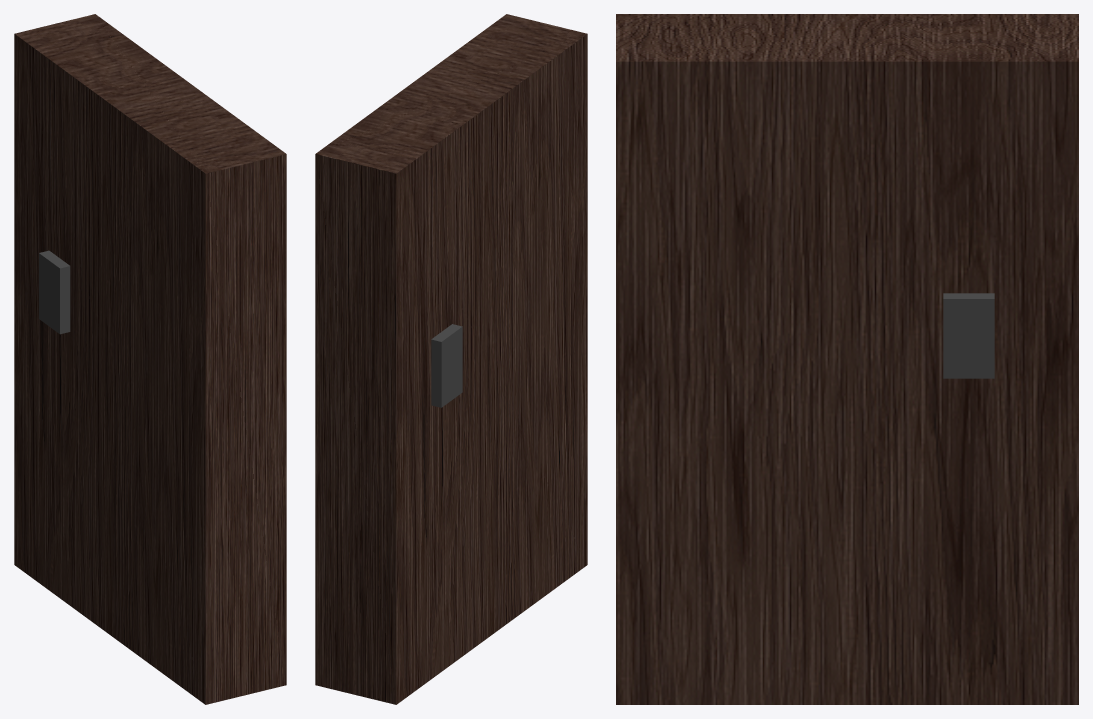
The model's file is smallDoor.fbx.
3 renders of one model, left to right at view 1: azimuth 30°, elevation 25°; view 2: azimuth 150°, elevation 25°; view 3: azimuth 270°, elevation 25°, orthographic. The views are drawn at different scales.
Visible parts, largest first — view 1: door, handle; view 2: door, handle; view 3: door, handle.
Part boxes in pixels (left/top/right/bottom): door: left=14, top=14, right=286, bottom=704; handle: left=39, top=250, right=70, bottom=334; door: left=315, top=14, right=587, bottom=704; handle: left=431, top=324, right=462, bottom=407; door: left=616, top=14, right=1078, bottom=704; handle: left=943, top=293, right=994, bottom=378.
Size of the model in its own units: 60.9 by 307 by 200.
Materials: 2 (2 with a texture image).
